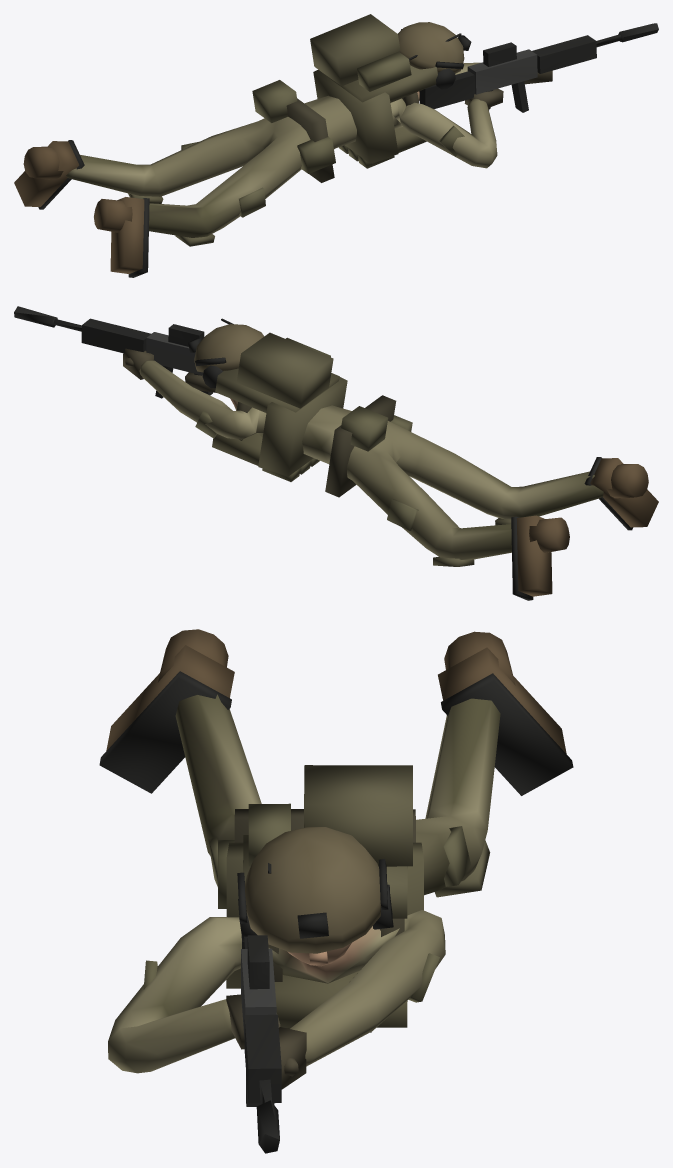
File: soldier_prone_nato.glb
3 renders of one model, top to bottom at view 1: azimuth 30°, elevation 25°; view 2: azimuth 150°, elevation 25°; view 3: azimuth 270°, elevation 25°, orthographic. The views are drawn at different scales.
Parts seen in each view (by area): view 1: soldier; view 2: soldier; view 3: soldier.
Boxes of the visible parts, bbox=[...] form: soldier: bbox=[14, 14, 658, 277]; soldier: bbox=[14, 306, 658, 600]; soldier: bbox=[99, 629, 573, 1153].
Bounding box in the file's own units: 2.4 × 0.5803 × 0.854.
